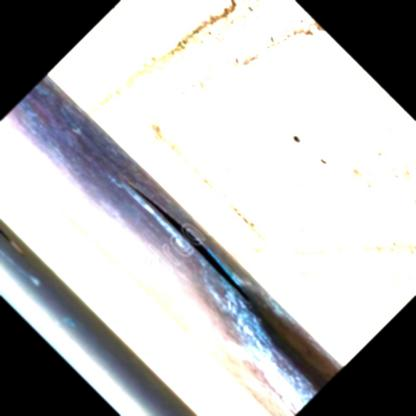burst: (127, 181, 253, 311)
